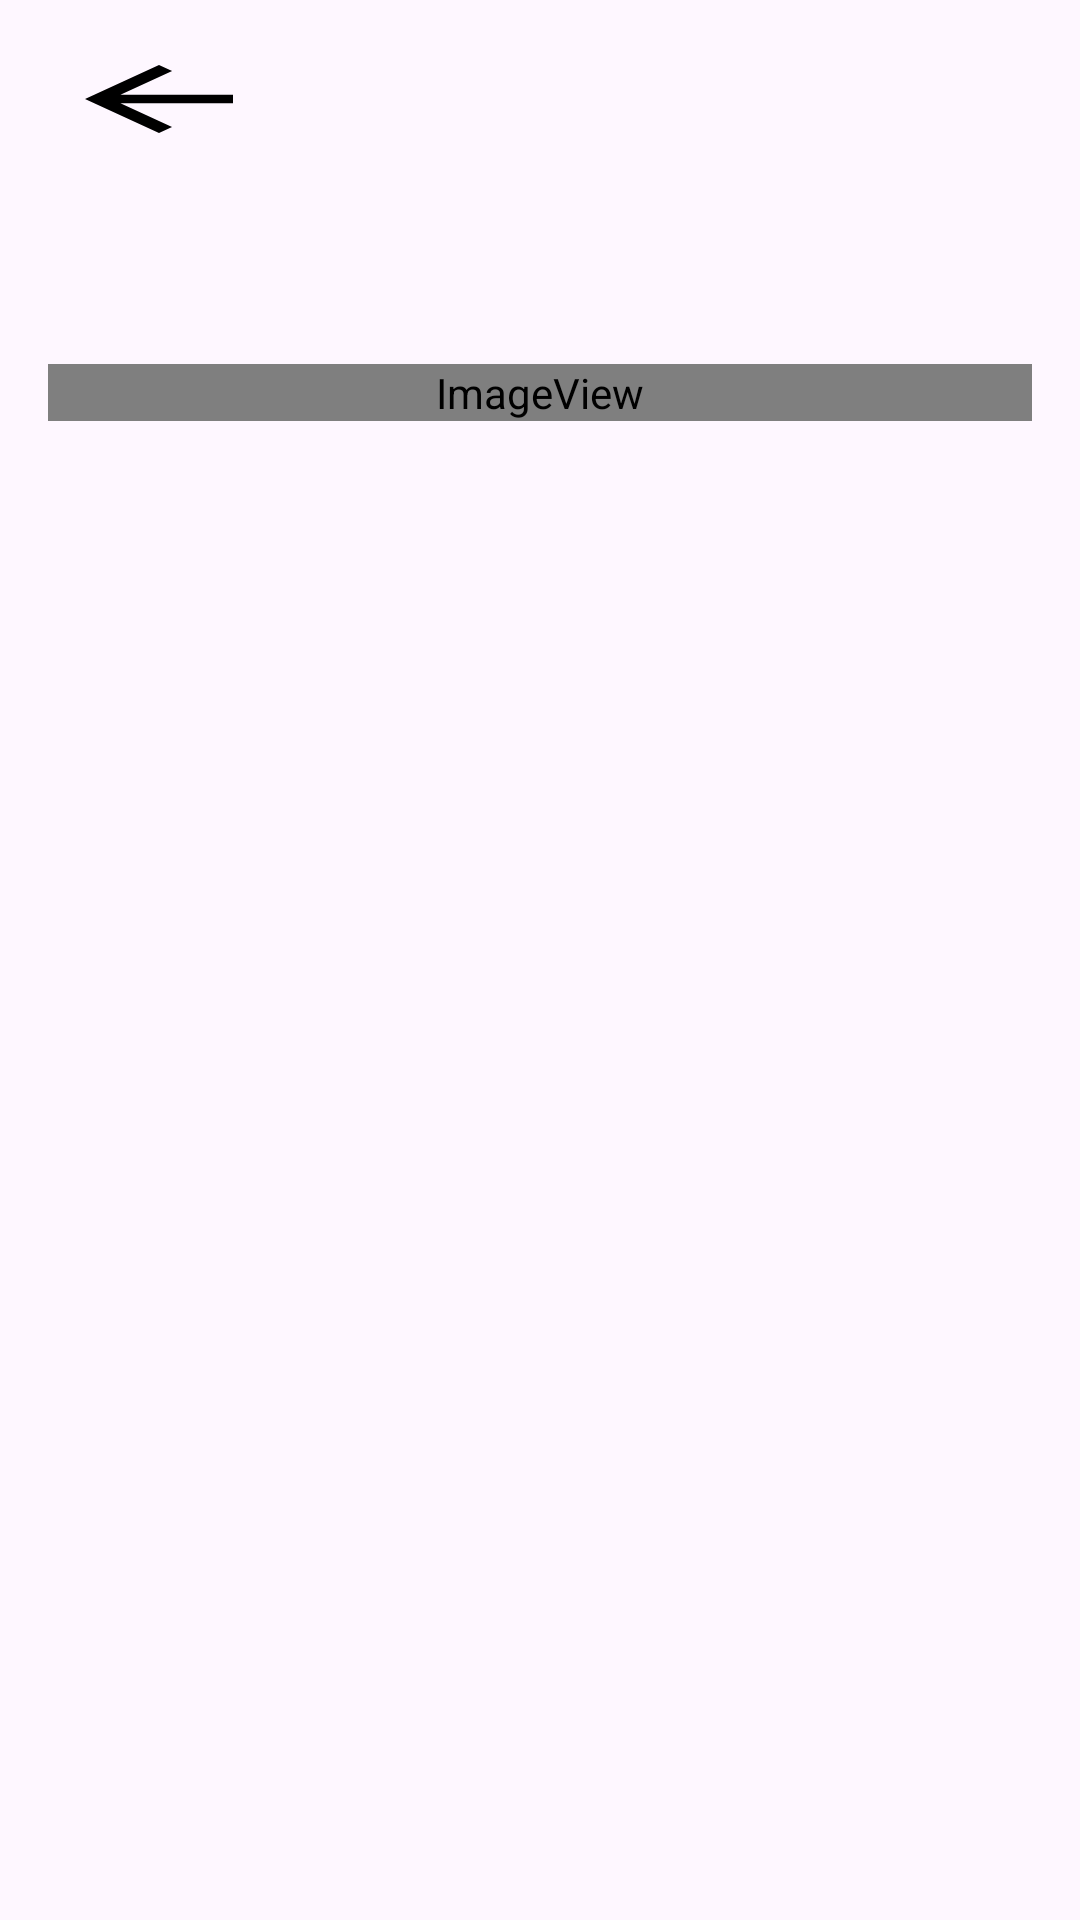

Point at icon controls on the screen. Image size 1080x1920, points as (x=x, y=y).
arrow back: (x=159, y=99)
